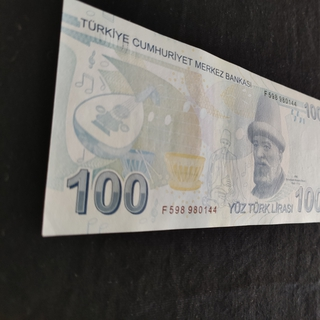100TLBack: (41, 0, 320, 237)
